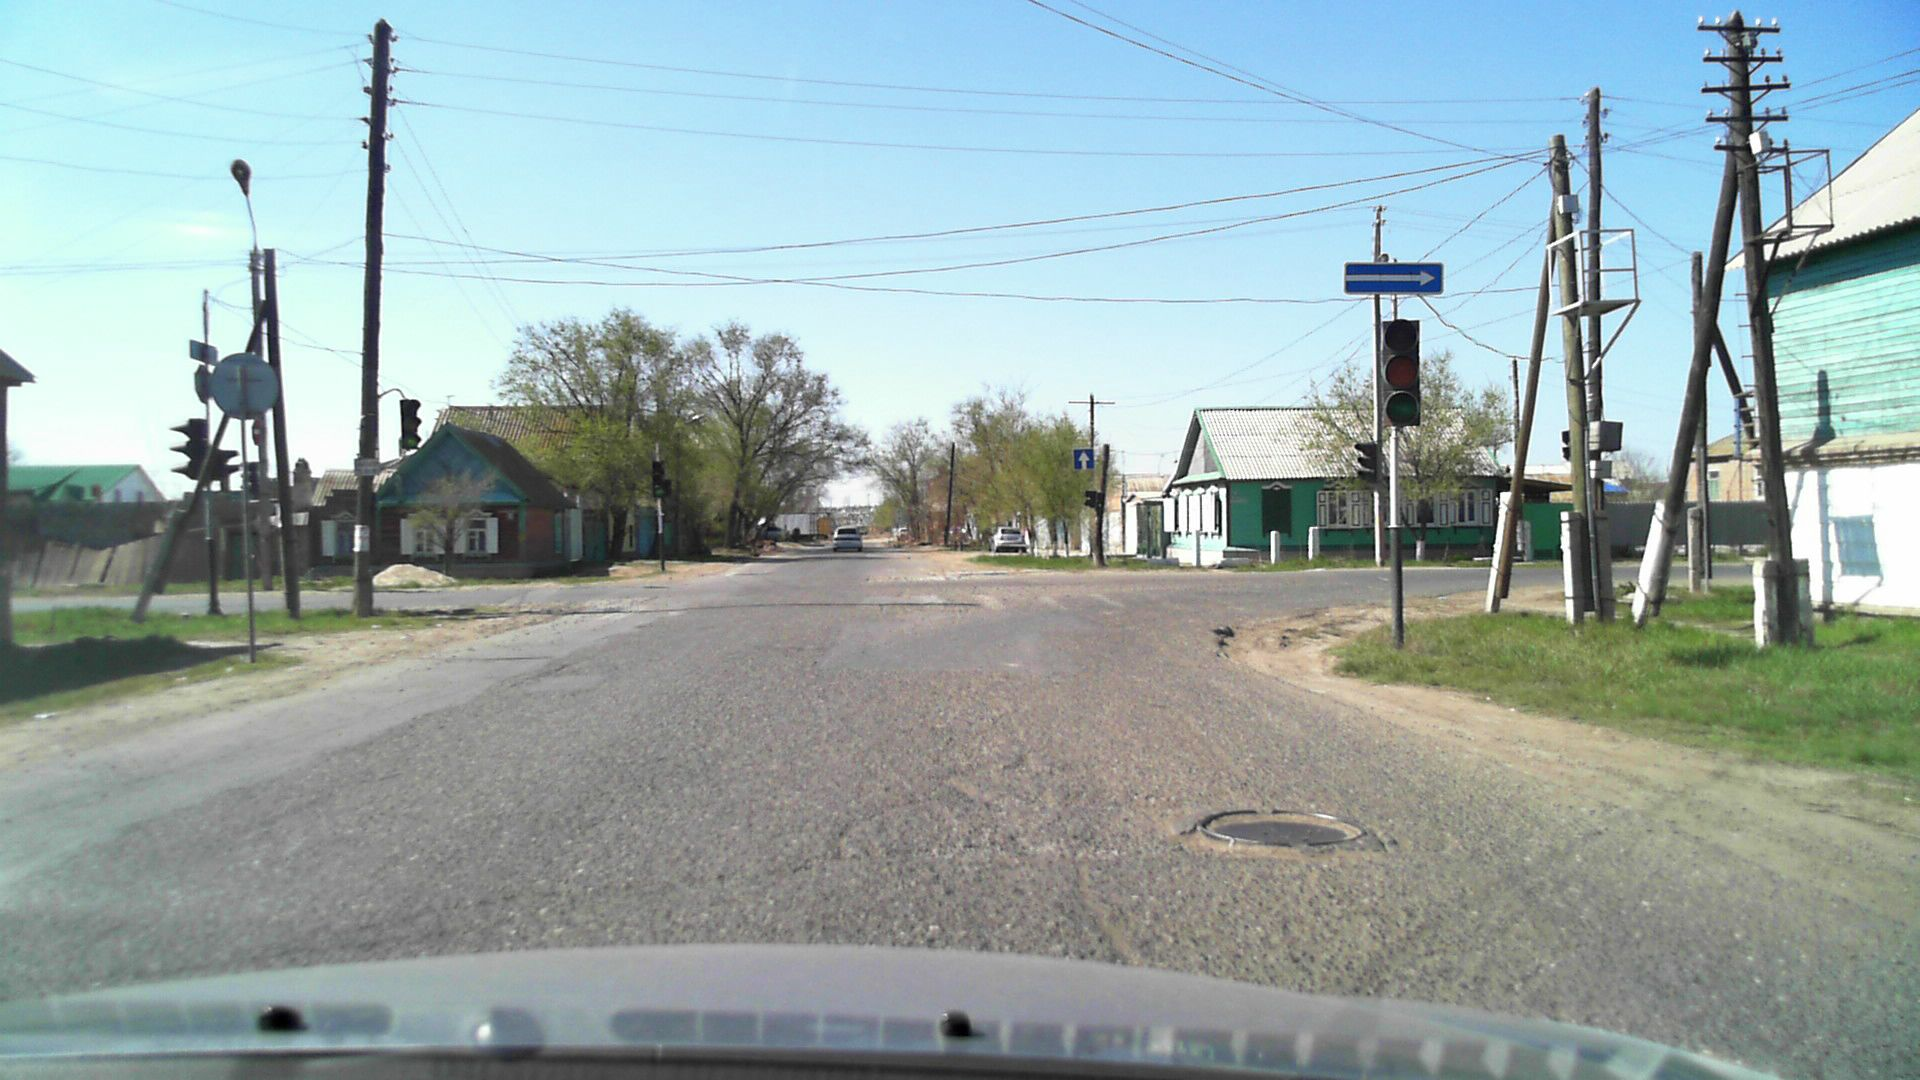One-Way Traffic: (1342, 261, 1444, 294)
